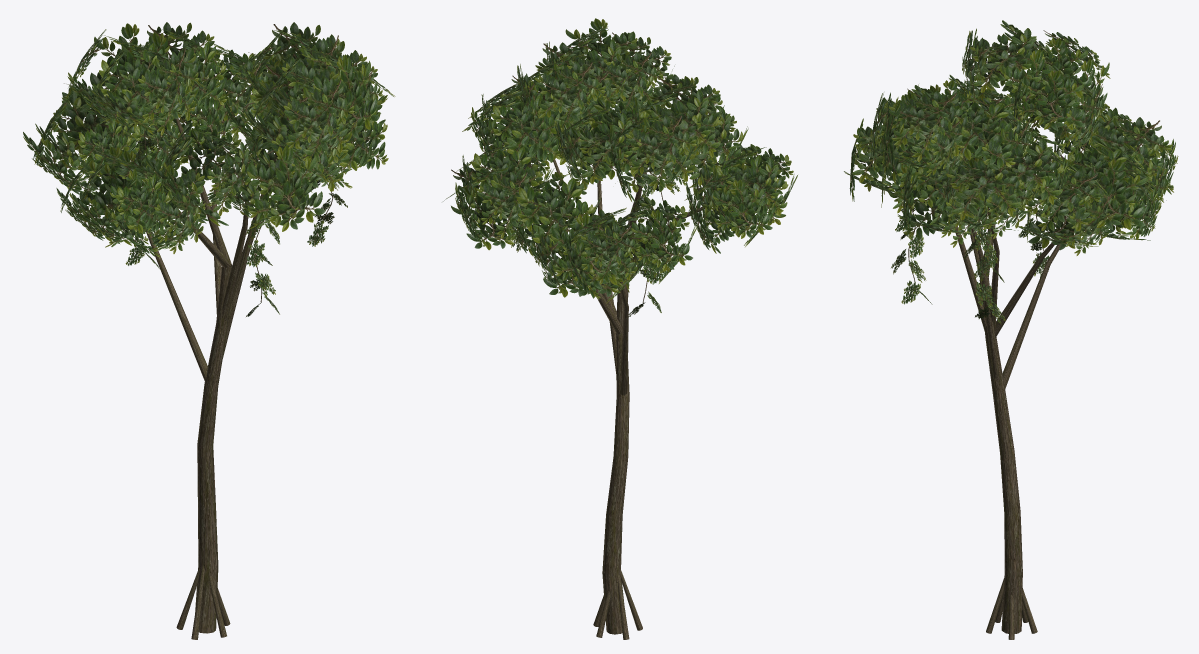
The model's file is background_tree_02.glb.
The picture shows the model from 3 angles, left to right: view 1: azimuth 30°, elevation 25°; view 2: azimuth 150°, elevation 25°; view 3: azimuth 270°, elevation 25°; orthographic projection. The views are drawn at different scales.
Parts seen in each view (by area): view 1: background_tree_02; view 2: background_tree_02; view 3: background_tree_02.
Part boxes in pixels (box(x1,y1,x2,y2)): background_tree_02: box(23, 22, 395, 639); background_tree_02: box(443, 18, 797, 639); background_tree_02: box(844, 20, 1178, 639).
Size of the model in its own units: 8.06 by 13.88 by 7.76.
Materials: 2 (2 with a texture image).
